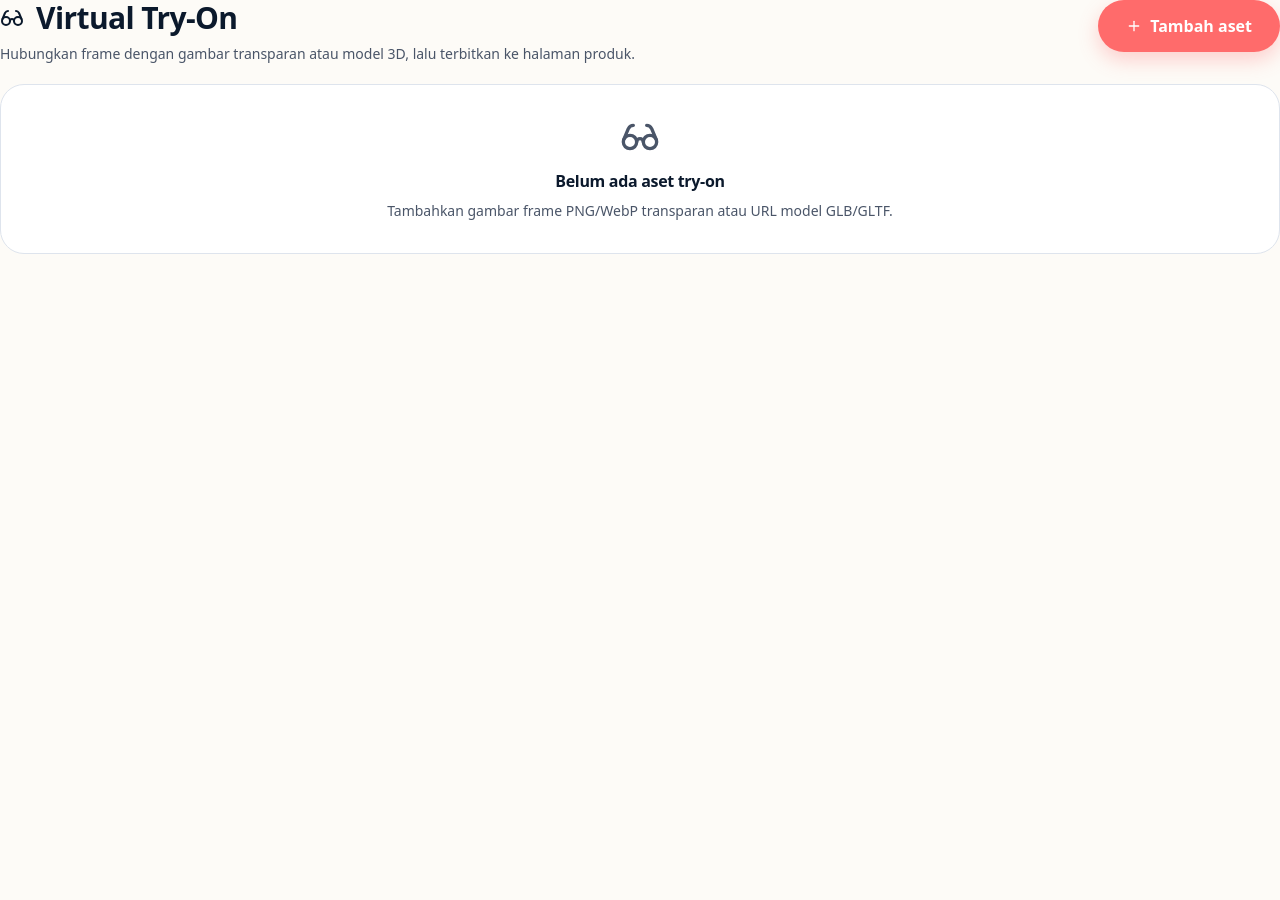
Scenario: empty product options explain the Frame requirement and link to product management
Click the button "Tambah aset" at [1189, 26], box [1098,0,1279,52]
Wait 200 ms
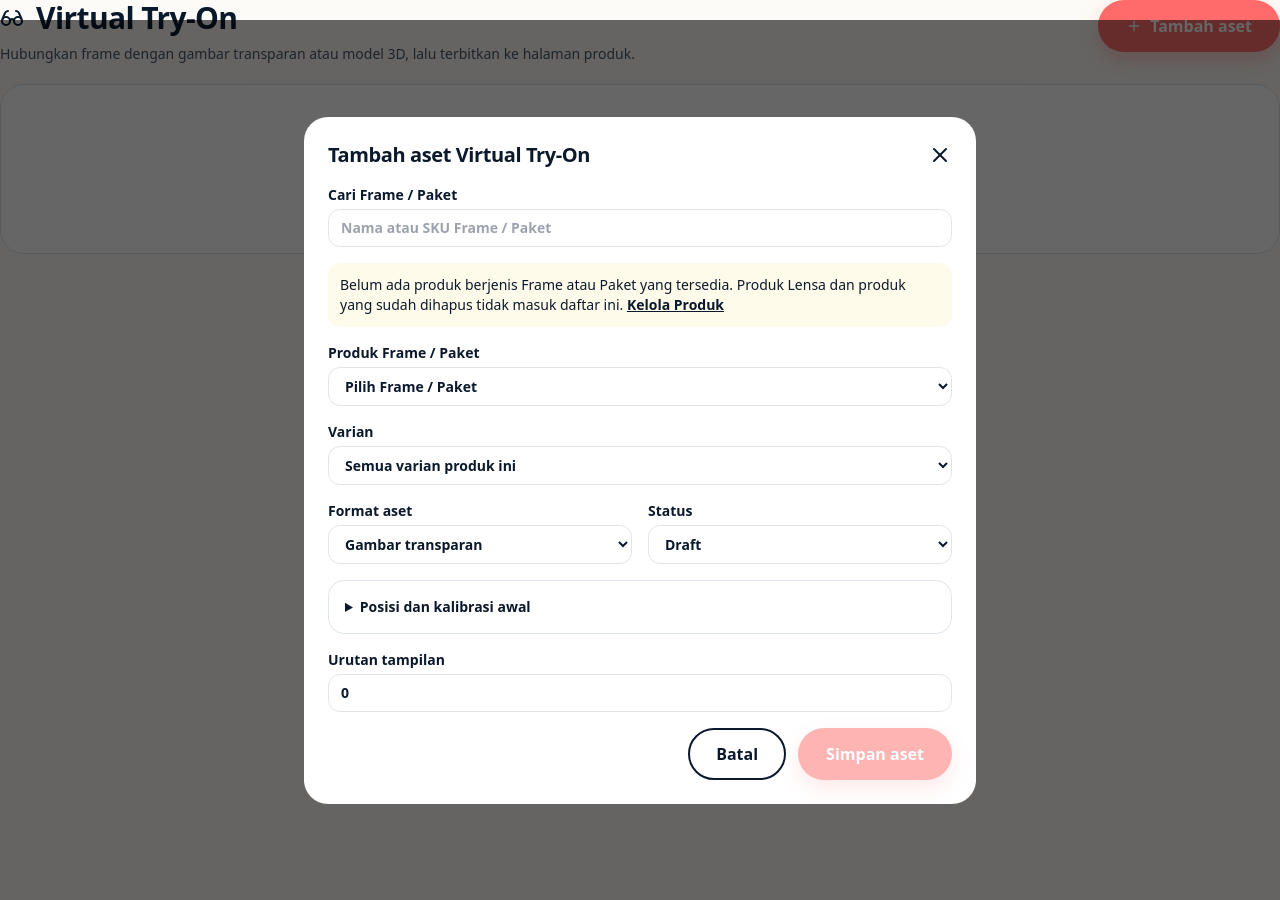
Result: the dialog shows "berjenis Frame" at [340,274,906,314]
Result: the dialog shows "Paket" at [328,184,457,204]
Result: the link to "/admin/products" is shown at [627,294,724,314]
